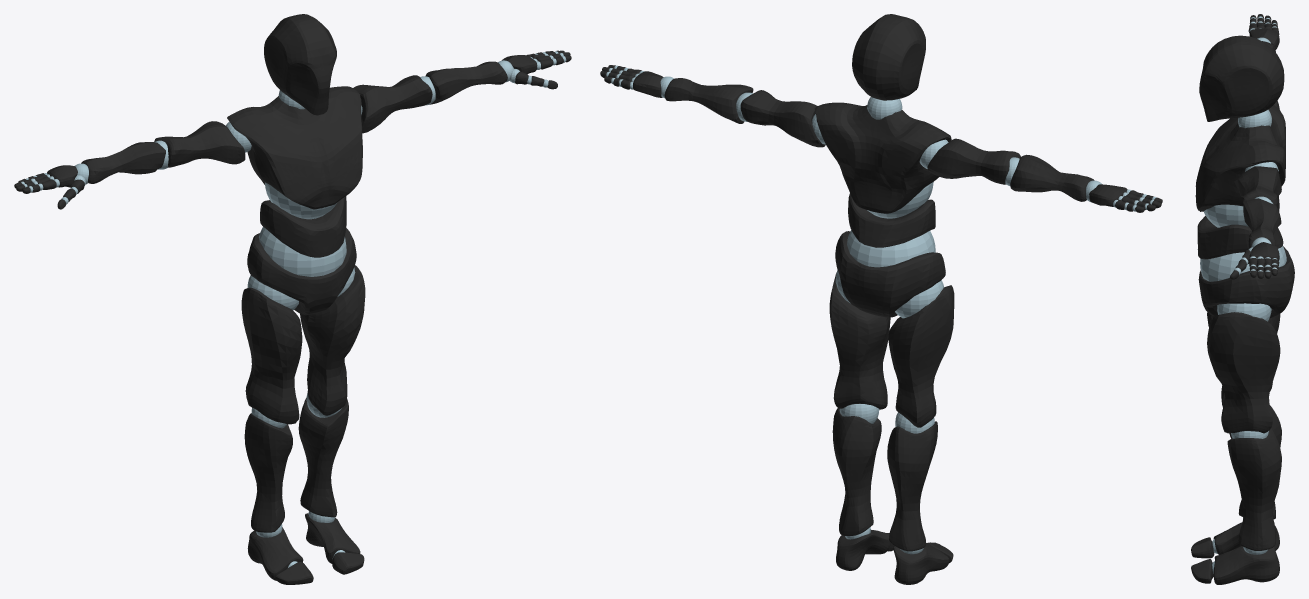
The model's file is LowPoly_Futuristic_Prometheus_Alien_Robot.obj.
3 views of the same model, side by side, from view 1: azimuth 30°, elevation 25°; view 2: azimuth 150°, elevation 25°; view 3: azimuth 270°, elevation 25° (orthographic). The views are drawn at different scales.
Visible parts, largest first — view 1: Alpha_HighLimbsGeo, Alpha_HighTorsoGeo, Alpha_HighJointsGeo; view 2: Alpha_HighLimbsGeo, Alpha_HighTorsoGeo, Alpha_HighJointsGeo; view 3: Alpha_HighLimbsGeo, Alpha_HighTorsoGeo, Alpha_HighJointsGeo.
Boxes of the visible parts, x1=… form: Alpha_HighLimbsGeo: x1=14, y1=50, x2=571, y2=584; Alpha_HighTorsoGeo: x1=227, y1=14, x2=362, y2=315; Alpha_HighJointsGeo: x1=21, y1=51, x2=566, y2=567; Alpha_HighLimbsGeo: x1=600, y1=65, x2=1162, y2=584; Alpha_HighTorsoGeo: x1=815, y1=14, x2=951, y2=317; Alpha_HighJointsGeo: x1=606, y1=65, x2=1156, y2=554; Alpha_HighLimbsGeo: x1=1191, y1=14, x2=1281, y2=584; Alpha_HighTorsoGeo: x1=1195, y1=35, x2=1294, y2=318; Alpha_HighJointsGeo: x1=1200, y1=16, x2=1286, y2=573.
Size of the model in its own units: 194 by 182 by 32.53.
